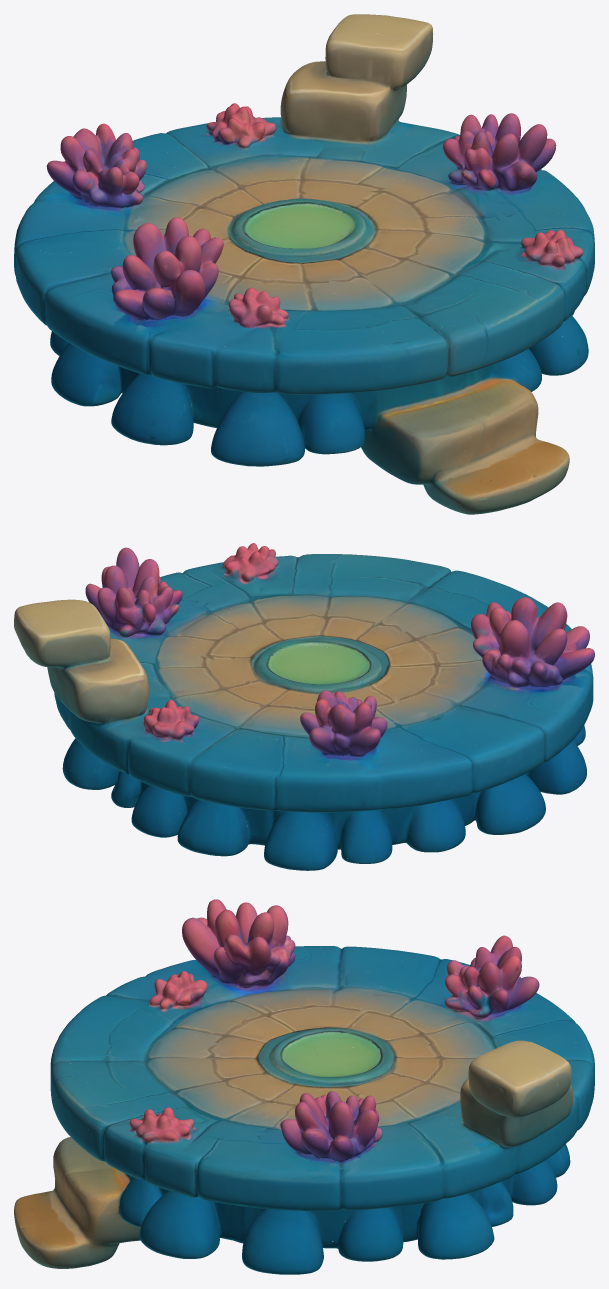
Rendered from hdr-seabed.glb.
3 renders of one model, top to bottom at view 1: azimuth 30°, elevation 25°; view 2: azimuth 150°, elevation 25°; view 3: azimuth 270°, elevation 25°, orthographic. The views are drawn at different scales.
Visible parts, largest first — view 1: tripo_node_0589e653-3ece-47f7-aa30-4bea35f59cb2; view 2: tripo_node_0589e653-3ece-47f7-aa30-4bea35f59cb2; view 3: tripo_node_0589e653-3ece-47f7-aa30-4bea35f59cb2.
Boxes of the visible parts, x1,y1,x2,y2 form: tripo_node_0589e653-3ece-47f7-aa30-4bea35f59cb2: [14, 14, 594, 514]; tripo_node_0589e653-3ece-47f7-aa30-4bea35f59cb2: [14, 543, 594, 870]; tripo_node_0589e653-3ece-47f7-aa30-4bea35f59cb2: [14, 899, 594, 1274].
Bounding box in the file's own units: 1.96 × 0.9844 × 2.07.
Materials: 1 (1 with a texture image).
